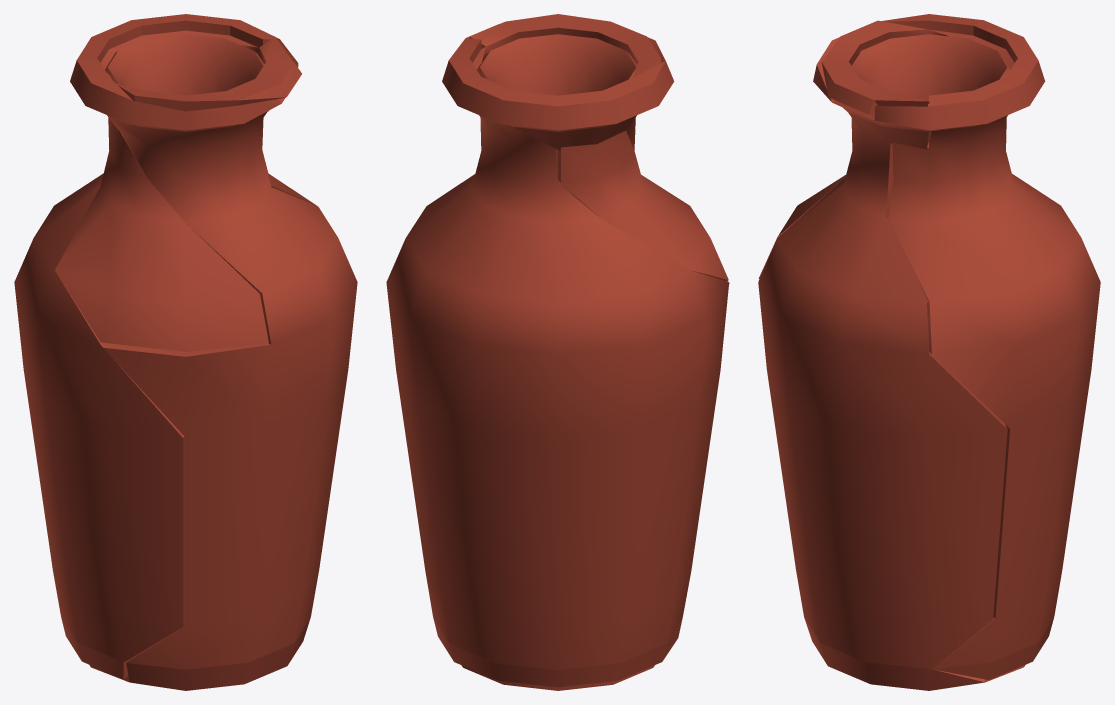
Rendered from VaseLargeShatter.fbx.
3 views of the same model, side by side, from view 1: azimuth 30°, elevation 25°; view 2: azimuth 150°, elevation 25°; view 3: azimuth 270°, elevation 25° (orthographic).
Parts seen in each view (by area): view 1: shard66, shard67, shard68, shard65; view 2: shard67, shard66, shard65, shard68; view 3: shard66, shard67, shard65, shard68.
Boxes of the visible parts, bbox=[...] form: shard66: bbox=[70, 14, 357, 690]; shard67: bbox=[14, 118, 316, 679]; shard68: bbox=[55, 117, 268, 351]; shard65: bbox=[100, 30, 301, 111]; shard67: bbox=[386, 115, 729, 687]; shard66: bbox=[442, 24, 729, 690]; shard65: bbox=[469, 14, 660, 95]; shard68: bbox=[558, 130, 728, 281]; shard66: bbox=[758, 14, 1045, 690]; shard67: bbox=[888, 115, 1100, 679]; shard65: bbox=[821, 20, 1014, 115]; shard68: bbox=[758, 175, 845, 278].
Size of the model in its own units: 3.12 by 5.89 by 3.12.
